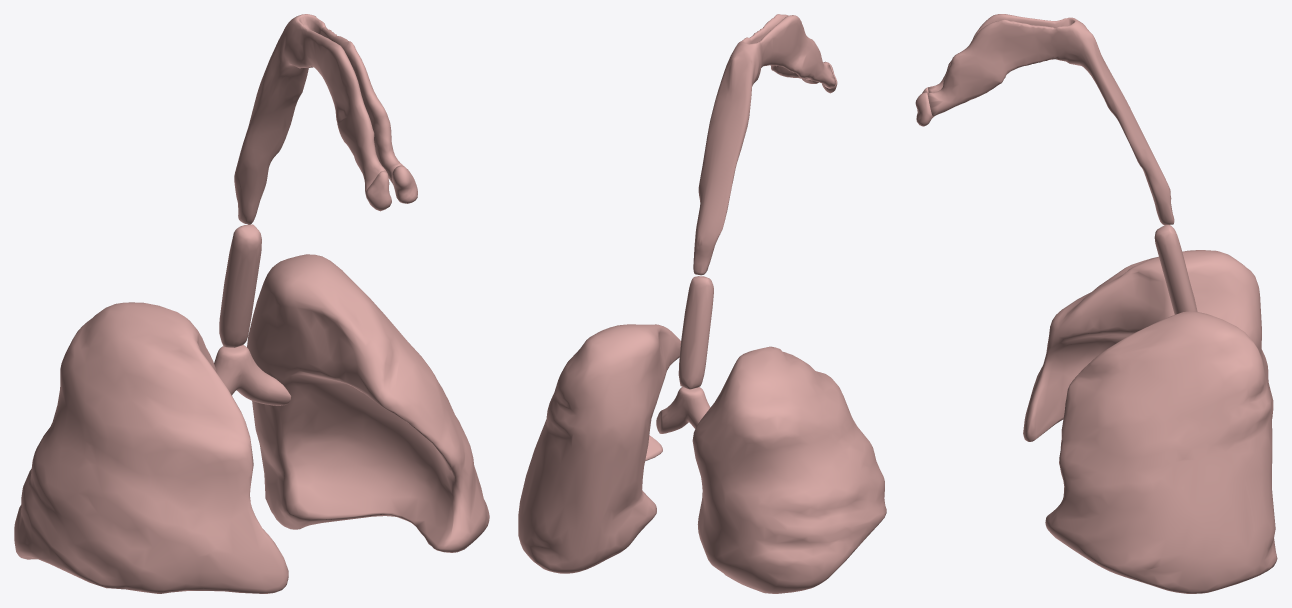
Rendered from pediatric_neonate_female.respiratory.LOD0.glb.
3 renders of one model, left to right at view 1: azimuth 30°, elevation 25°; view 2: azimuth 150°, elevation 25°; view 3: azimuth 270°, elevation 25°, orthographic. The views are drawn at different scales.
Visible parts, largest first — view 1: PEDIATRIC.NEONATE.FEMALE.RESPIRATORY.LUNG.R, PEDIATRIC.NEONATE.FEMALE.RESPIRATORY.LUNG.L, PEDIATRIC.NEONATE.FEMALE.RESPIRATORY.ET2, PEDIATRIC.NEONATE.FEMALE.RESPIRATORY.TRACHEA, PEDIATRIC.NEONATE.FEMALE.RESPIRATORY.BB1, PEDIATRIC.NEONATE.FEMALE.RESPIRATORY.ET1; view 2: PEDIATRIC.NEONATE.FEMALE.RESPIRATORY.LUNG.R, PEDIATRIC.NEONATE.FEMALE.RESPIRATORY.LUNG.L, PEDIATRIC.NEONATE.FEMALE.RESPIRATORY.ET2, PEDIATRIC.NEONATE.FEMALE.RESPIRATORY.TRACHEA, PEDIATRIC.NEONATE.FEMALE.RESPIRATORY.BB1; view 3: PEDIATRIC.NEONATE.FEMALE.RESPIRATORY.LUNG.L, PEDIATRIC.NEONATE.FEMALE.RESPIRATORY.LUNG.R, PEDIATRIC.NEONATE.FEMALE.RESPIRATORY.ET2, PEDIATRIC.NEONATE.FEMALE.RESPIRATORY.TRACHEA.
Part boxes in pixels (box(x1,y1,x2,y2)): PEDIATRIC.NEONATE.FEMALE.RESPIRATORY.LUNG.R: box(14, 302, 288, 593); PEDIATRIC.NEONATE.FEMALE.RESPIRATORY.LUNG.L: box(247, 254, 489, 552); PEDIATRIC.NEONATE.FEMALE.RESPIRATORY.ET2: box(234, 14, 405, 224); PEDIATRIC.NEONATE.FEMALE.RESPIRATORY.TRACHEA: box(219, 224, 261, 347); PEDIATRIC.NEONATE.FEMALE.RESPIRATORY.BB1: box(214, 345, 291, 405); PEDIATRIC.NEONATE.FEMALE.RESPIRATORY.ET1: box(365, 165, 417, 211); PEDIATRIC.NEONATE.FEMALE.RESPIRATORY.LUNG.R: box(692, 346, 886, 593); PEDIATRIC.NEONATE.FEMALE.RESPIRATORY.LUNG.L: box(518, 324, 680, 573); PEDIATRIC.NEONATE.FEMALE.RESPIRATORY.ET2: box(693, 14, 835, 275); PEDIATRIC.NEONATE.FEMALE.RESPIRATORY.TRACHEA: box(678, 276, 713, 389); PEDIATRIC.NEONATE.FEMALE.RESPIRATORY.BB1: box(656, 387, 710, 433); PEDIATRIC.NEONATE.FEMALE.RESPIRATORY.LUNG.L: box(1045, 311, 1277, 593); PEDIATRIC.NEONATE.FEMALE.RESPIRATORY.LUNG.R: box(1023, 250, 1273, 441); PEDIATRIC.NEONATE.FEMALE.RESPIRATORY.ET2: box(927, 14, 1174, 225); PEDIATRIC.NEONATE.FEMALE.RESPIRATORY.TRACHEA: box(1154, 225, 1197, 314).
Bounding box in the file's own units: 0.0956 × 0.1326 × 0.0873.
